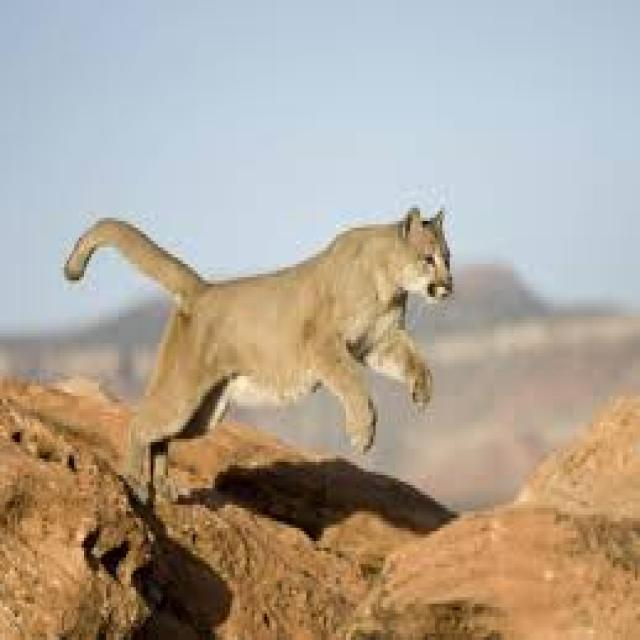Lion: (61, 201, 460, 501)
